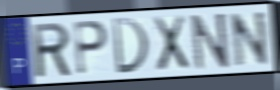D: (110, 16, 151, 76)
N: (189, 11, 232, 72), (228, 9, 271, 69)
P: (72, 19, 109, 77)
R: (30, 20, 73, 81)
X: (151, 13, 191, 74)
